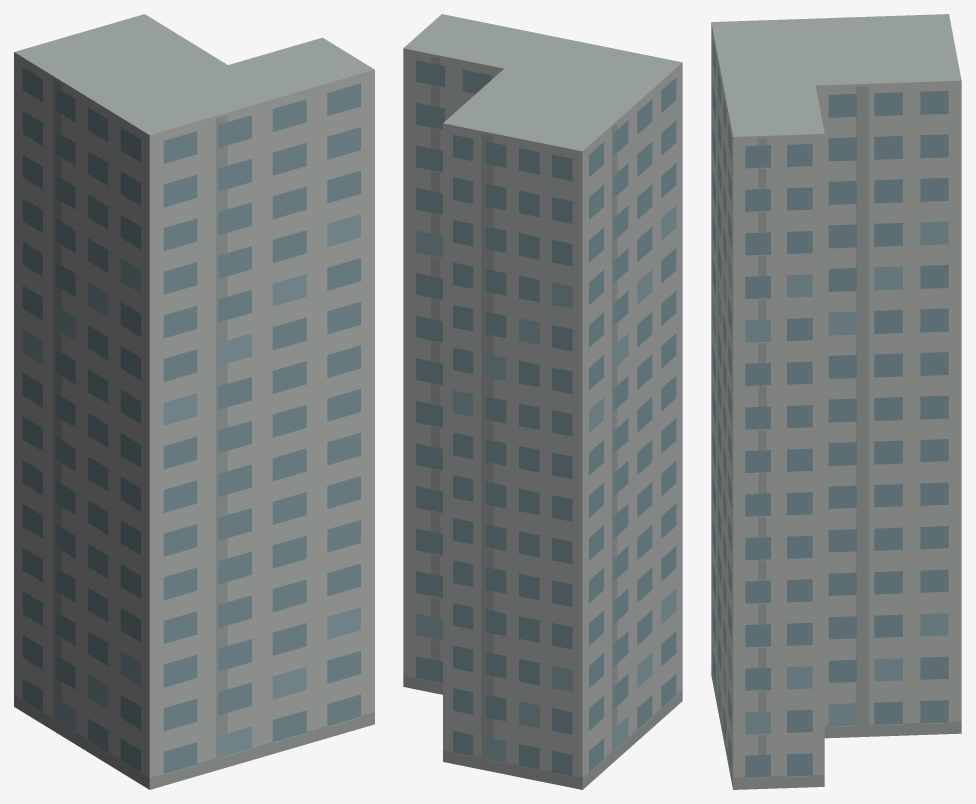
The model's file is residential-22b5a50d-d449-459e-ab28-6a9c396c04c3.glb.
3 views of the same model, side by side, from view 1: azimuth 30°, elevation 25°; view 2: azimuth 150°, elevation 25°; view 3: azimuth 270°, elevation 25° (orthographic). The views are drawn at different scales.
Visible parts, largest first — view 1: residential-22b5a50d-d449-459e-ab28-6a9c396c04c3.tmp; view 2: residential-22b5a50d-d449-459e-ab28-6a9c396c04c3.tmp; view 3: residential-22b5a50d-d449-459e-ab28-6a9c396c04c3.tmp.
Boxes of the visible parts, x1,y1,x2,y2 form: residential-22b5a50d-d449-459e-ab28-6a9c396c04c3.tmp: [14, 14, 374, 789]; residential-22b5a50d-d449-459e-ab28-6a9c396c04c3.tmp: [403, 14, 682, 789]; residential-22b5a50d-d449-459e-ab28-6a9c396c04c3.tmp: [711, 14, 961, 789].
Size of the model in its own units: 24.24 by 60 by 20.85.
